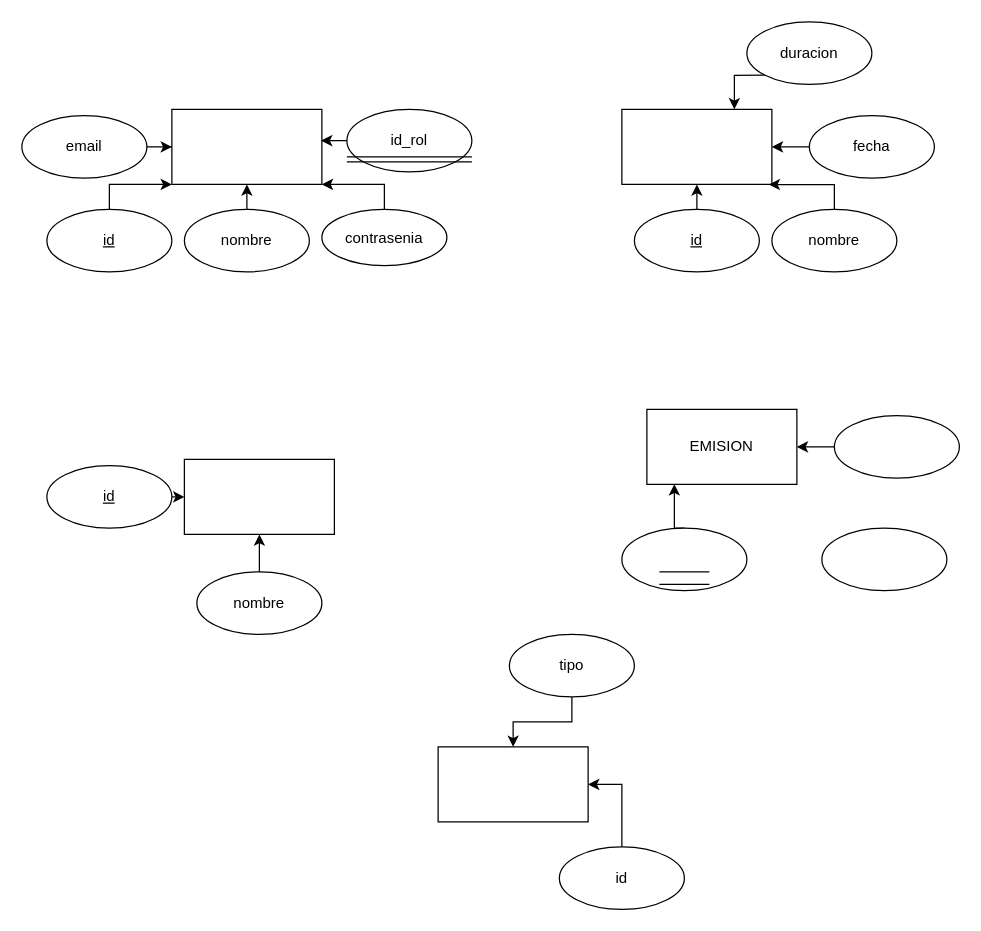
The diagram is 981 pixels wide and 931 high, and some of its shapes have lost their labels. Here are the shapes that lost their labels. From the top down, the centre of each, then its label:
At (246,146): "USUARIO".
At (696,146): "PROGRAMA".
At (896,446): "aprobada".
At (258,496): "ROL".
At (684,559): "id_programa".
At (884,559): "errores(?".
At (512,784): "PLATAFORMA".
